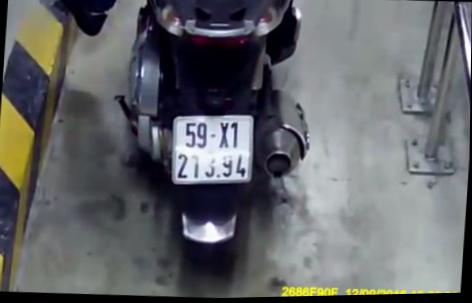LP: (169, 112, 256, 188)
